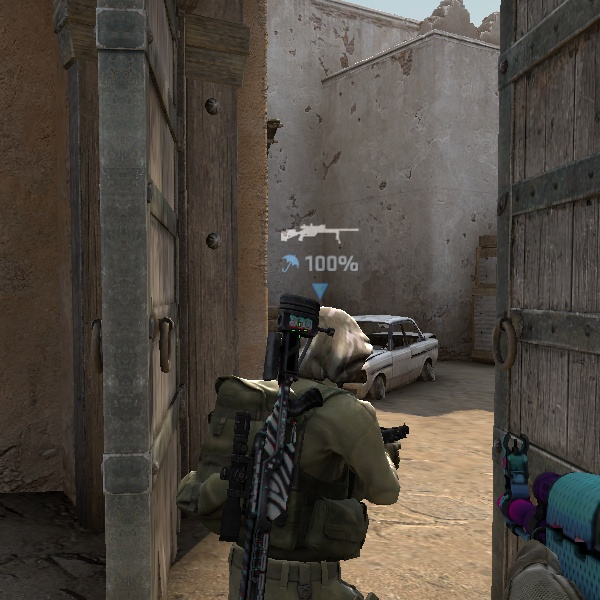ct_body: (148, 312, 428, 590)
ct_head: (270, 298, 385, 415)
